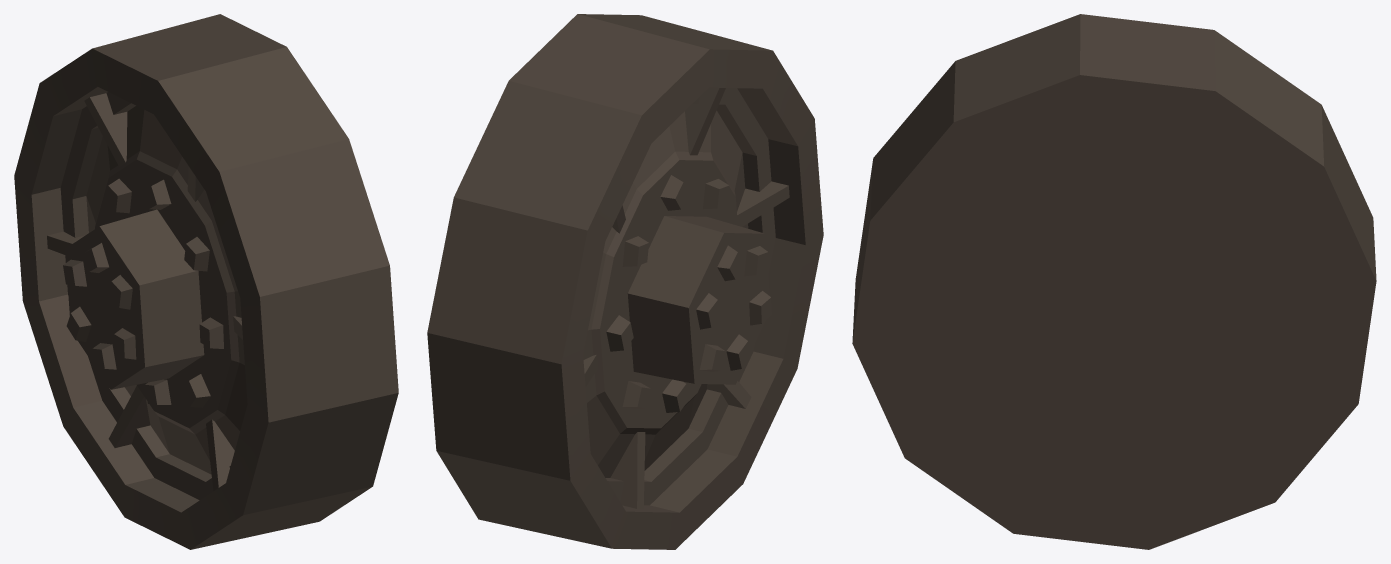
Rendered from SM_Veh_Excavator_01_Track_Wheel_fr.obj.
The picture shows the model from 3 angles, left to right: view 1: azimuth 30°, elevation 25°; view 2: azimuth 150°, elevation 25°; view 3: azimuth 270°, elevation 25°; orthographic projection. The views are drawn at different scales.
Visible parts, largest first — view 1: SM_Veh_Excavator_01_Track_Wheel_fr_0; view 2: SM_Veh_Excavator_01_Track_Wheel_fr_0; view 3: SM_Veh_Excavator_01_Track_Wheel_fr_0.
Boxes of the visible parts, bbox=[...] form: SM_Veh_Excavator_01_Track_Wheel_fr_0: bbox=[14, 14, 398, 549]; SM_Veh_Excavator_01_Track_Wheel_fr_0: bbox=[427, 14, 823, 549]; SM_Veh_Excavator_01_Track_Wheel_fr_0: bbox=[852, 14, 1376, 549].
Size of the model in its own units: 0.4754 by 1.21 by 1.21.
Materials: 1 (1 with a texture image).
